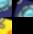bar: (12, 17, 33, 34)
mirror: (12, 0, 33, 17), (0, 0, 12, 17)
